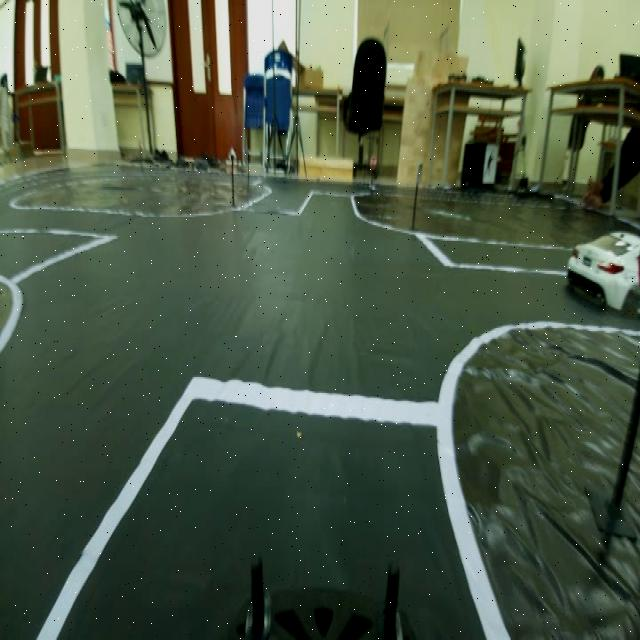car: (558, 224, 640, 308)
